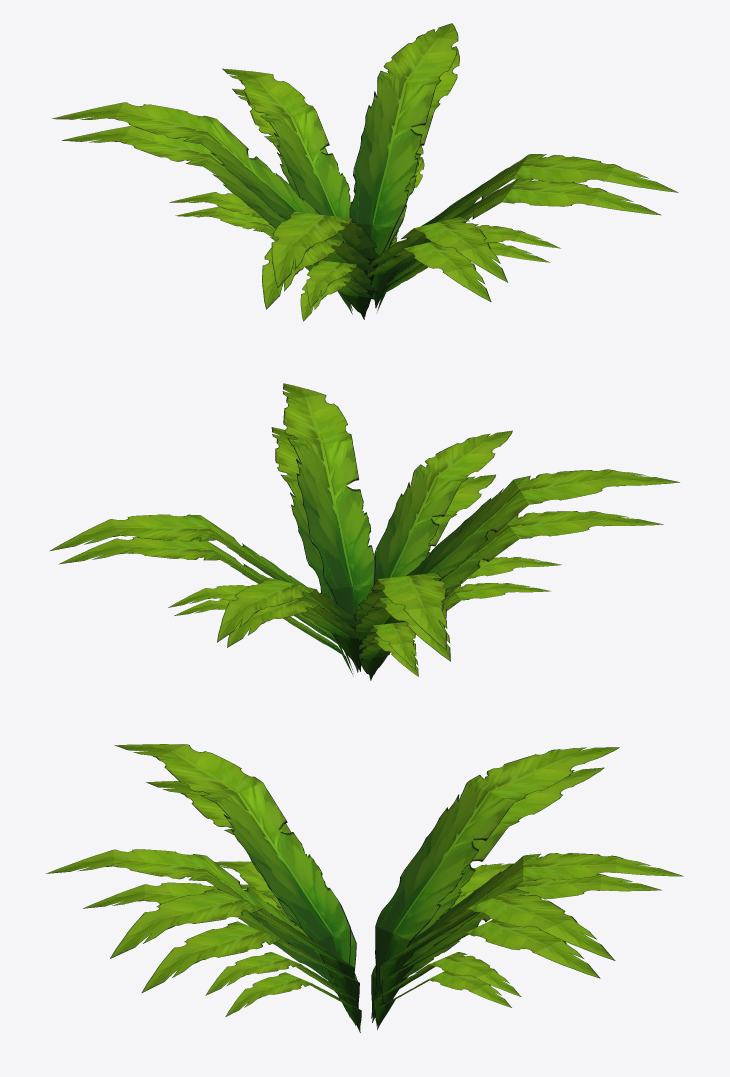
The model's file is Hemp_37.fbx.
The picture shows the model from 3 angles, top to bottom: view 1: azimuth 30°, elevation 25°; view 2: azimuth 150°, elevation 25°; view 3: azimuth 270°, elevation 25°; orthographic projection. The views are drawn at different scales.
Parts seen in each view (by area): view 1: Hemp_37; view 2: Hemp_37; view 3: Hemp_37.
Boxes of the visible parts, x1=… form: Hemp_37: x1=52, y1=23, x2=678, y2=321; Hemp_37: x1=49, y1=383, x2=679, y2=680; Hemp_37: x1=46, y1=744, x2=683, y2=1032.
Bounding box in the file's own units: 938 × 387 × 1122.
